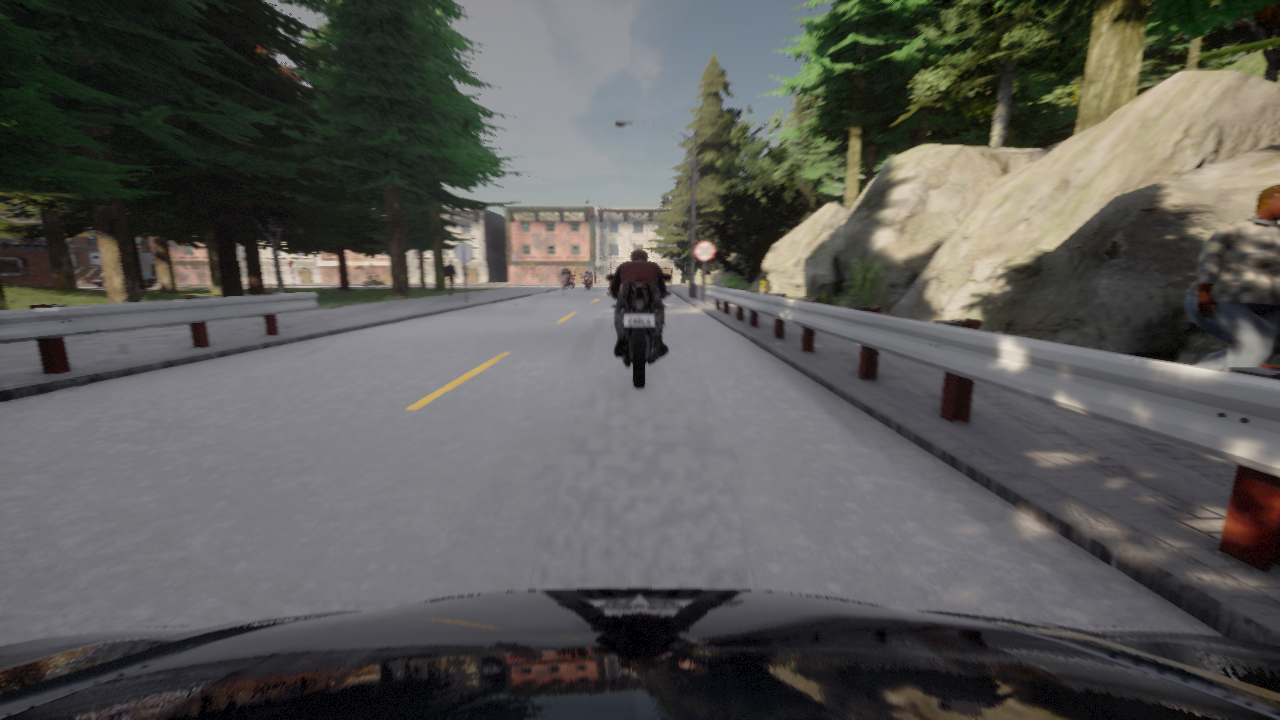cyclist: (0, 588, 1279, 719), (607, 274, 672, 388), (363, 275, 386, 285), (583, 273, 592, 290), (569, 275, 575, 287), (563, 281, 568, 295)
pedestrian: (1185, 184, 1279, 371), (445, 259, 458, 295), (758, 273, 770, 294)
